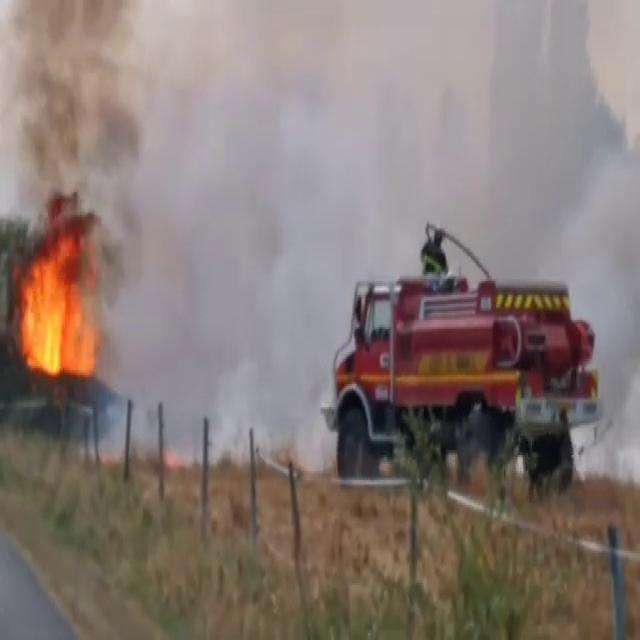Fire: (13, 230, 106, 382)
Smoke: (176, 0, 586, 343), (0, 1, 154, 223)
